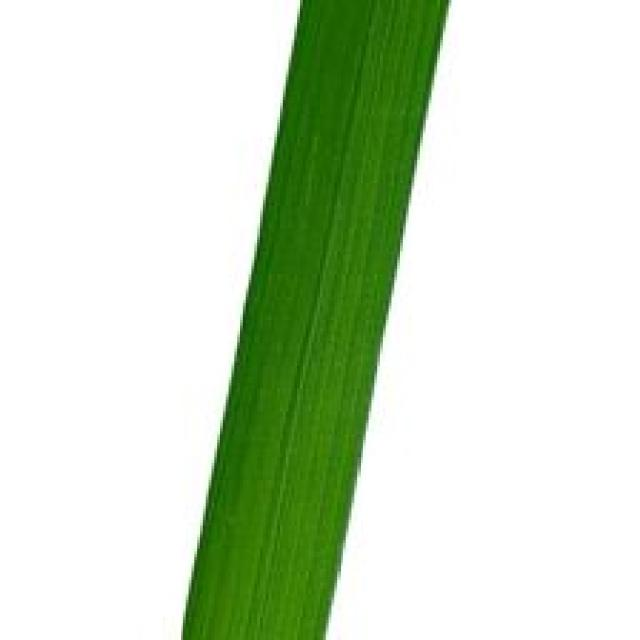Rice___Healthy_Rice_Plant: (182, 0, 451, 637)
